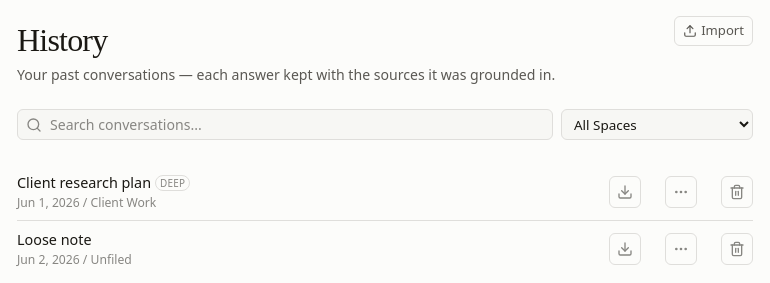
Test case: History — conversation library › filters conversations by Space
Expected: the text "Loose note" is shown, x1=17 y1=229 x2=92 y2=251
Select "Client Work" in the dropdown named "space filter" at {"x": 657, "y": 125}, box x1=561 y1=109 x2=753 y2=140
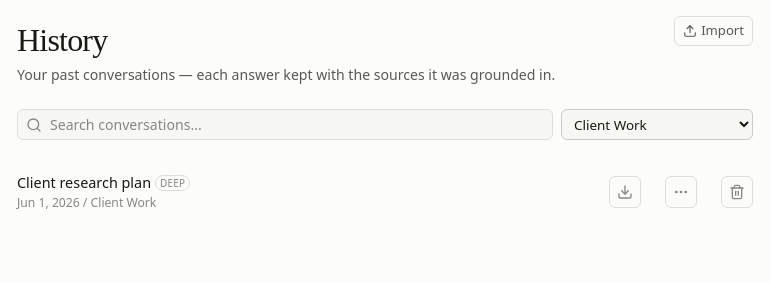
Expected: the text "Client research plan" is shown, x1=17 y1=172 x2=151 y2=194
Now the button "Loose note" is gone
